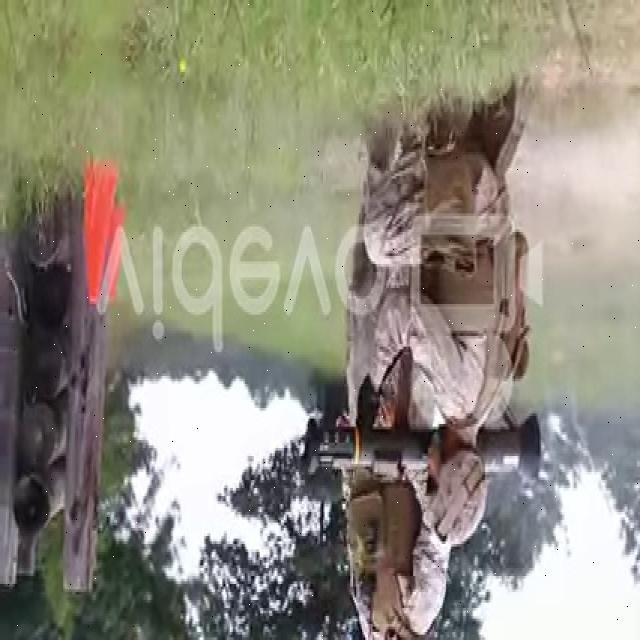bazooka: (303, 410, 551, 484)
